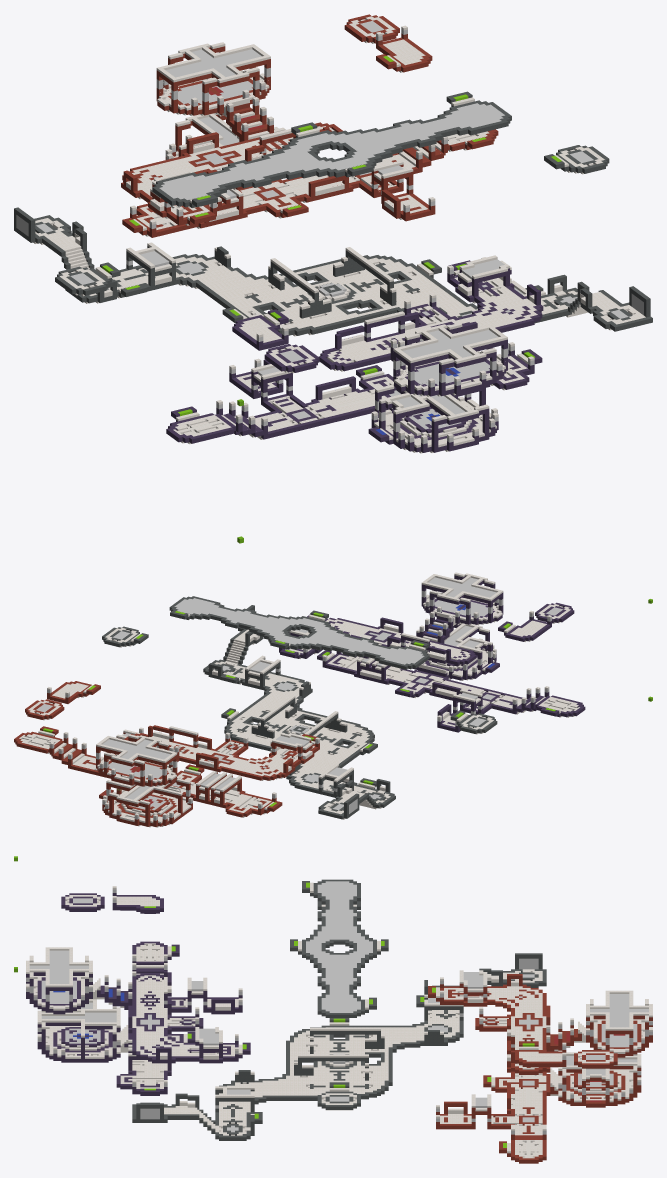
Rendered from minecraft.obj.
The picture shows the model from 3 angles, top to bottom: view 1: azimuth 30°, elevation 25°; view 2: azimuth 150°, elevation 25°; view 3: azimuth 270°, elevation 25°; orthographic projection. The views are drawn at different scales.
Bounding box in the file's own units: 135 × 40 × 162.
